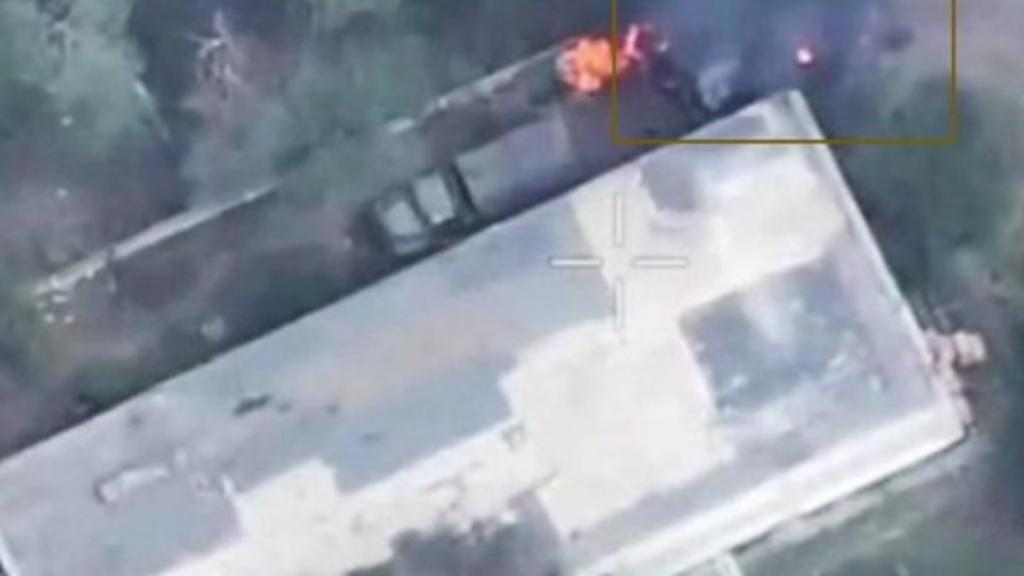TRUCK: (362, 110, 580, 264)
